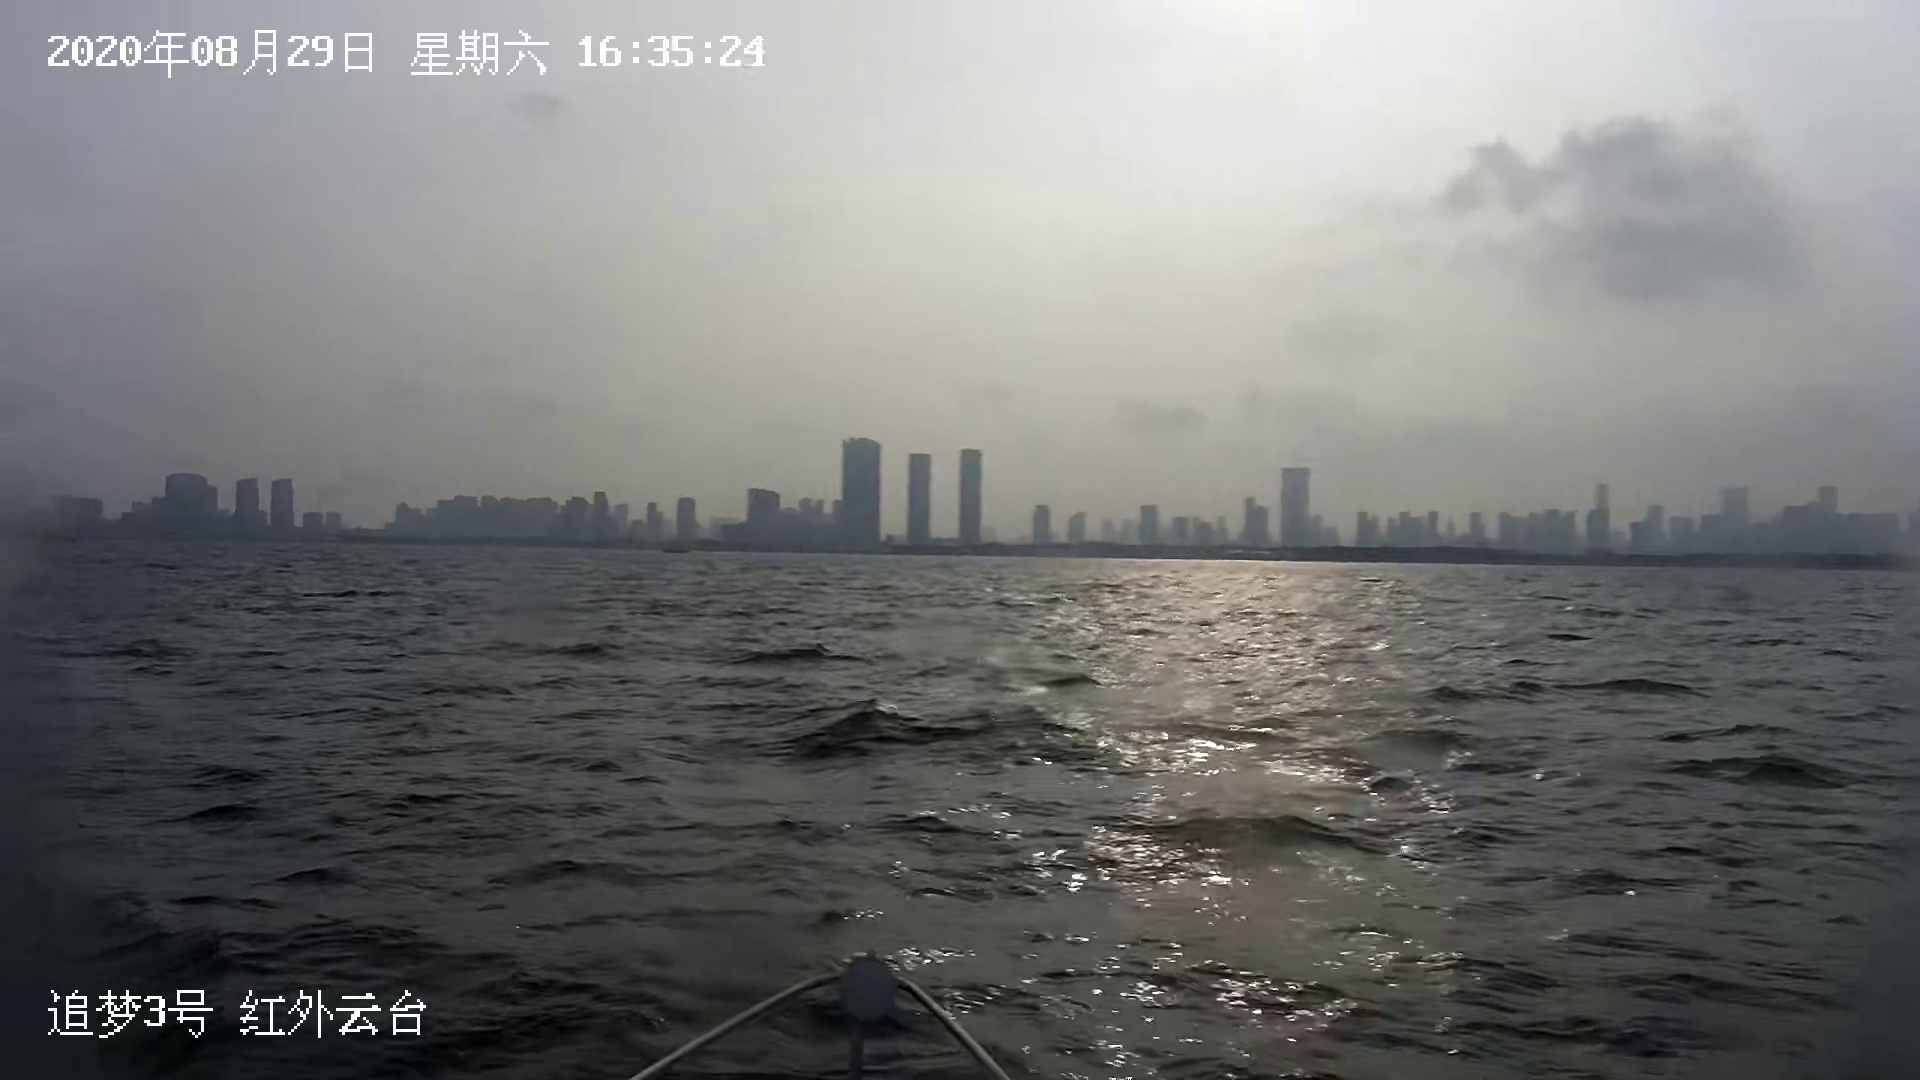coast: (18, 443, 1920, 555)
